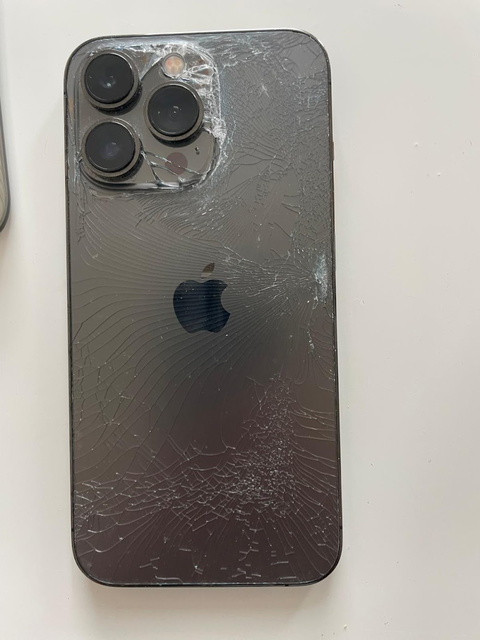crack_phone: (46, 24, 368, 604)
